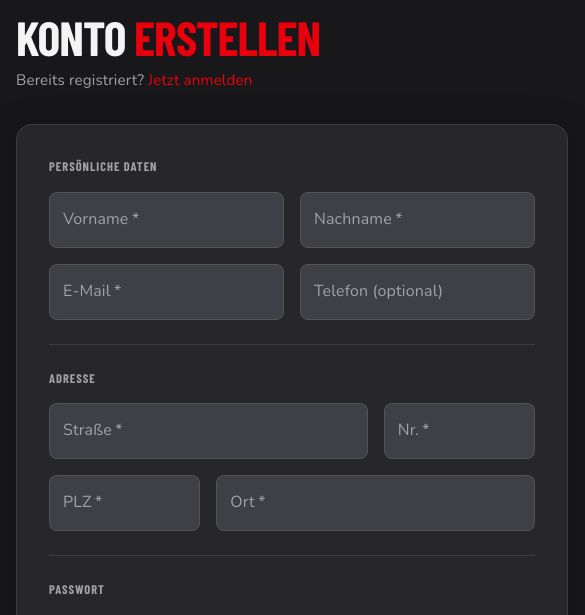
Test case: US16 – Registrierungsformular (Black-Box) › E-Mail ohne @ → Fehler "Ungültige E-Mail-Adresse"
The image size is (585, 615).
Type "keineat-zeichen.de" into the field labelled "E-Mail *" at (166,292), box [49,264,284,320]
(page scrolled)
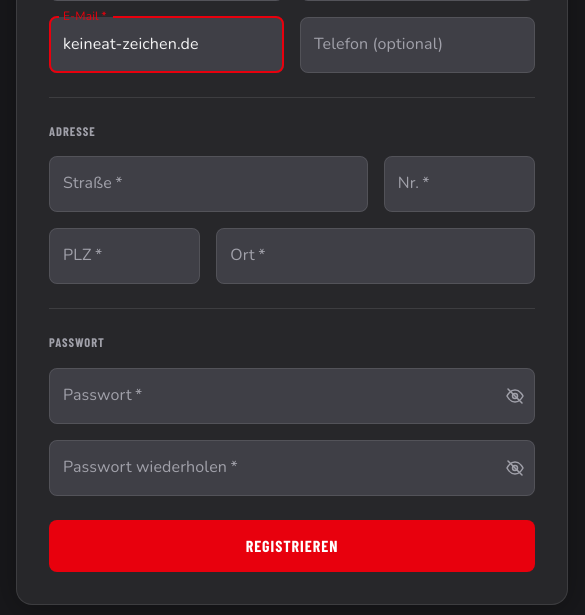
Click the button "Registrieren" at (292,546), box [49,520,535,572]
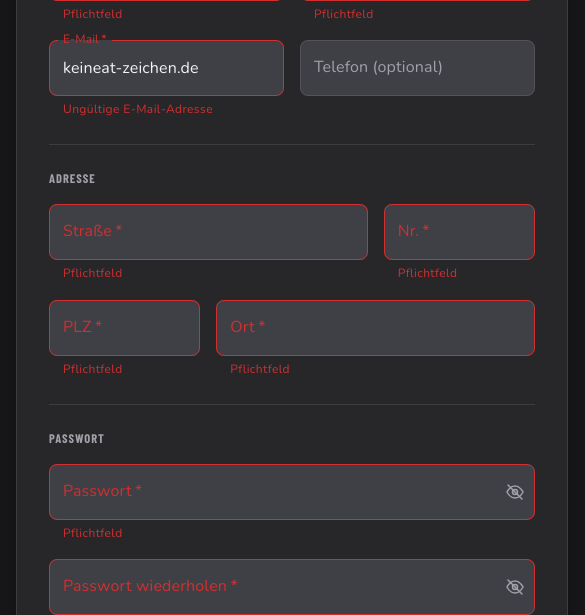
Check: the element labelled "E-Mail * Ungültige E-Mail-Adresse" is shown, box [49,40,284,120]
